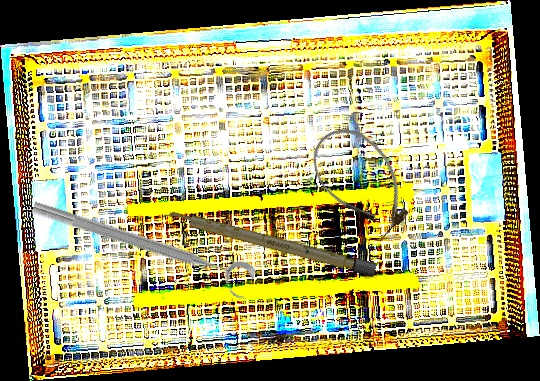Cannula: (297, 113, 426, 249)
Fixation Ring: (25, 194, 258, 303)
Scalpel Handle: (161, 206, 378, 278)
